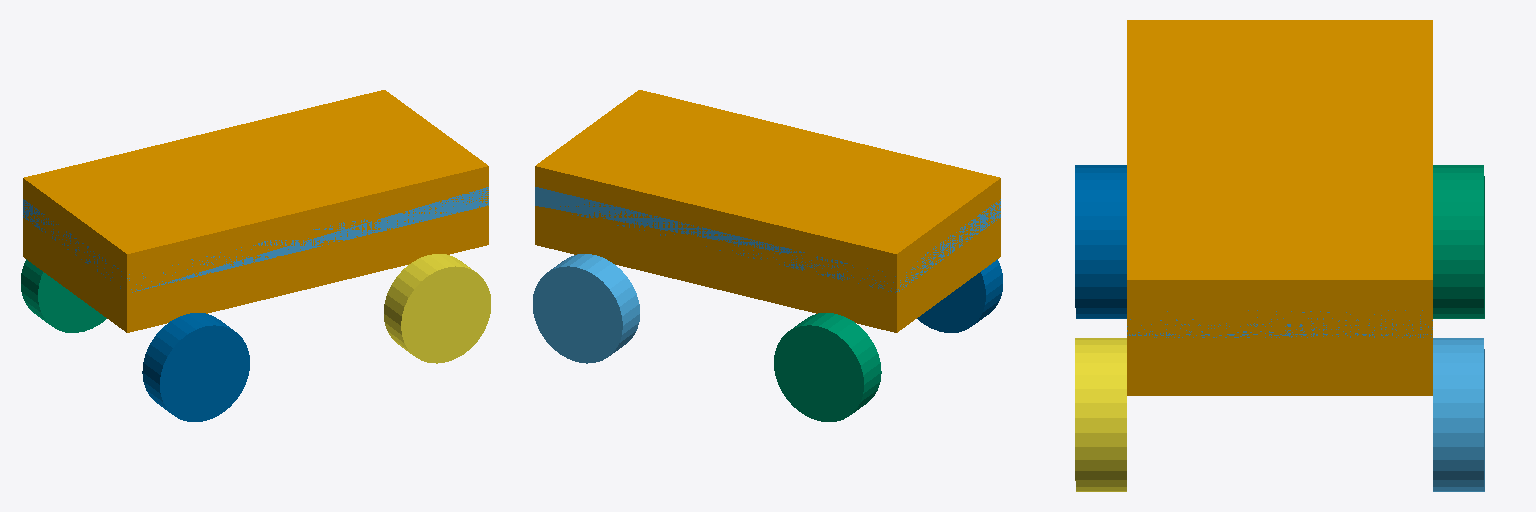
The robot description file, URDF, robot "myfirst":
<?xml version="1.0"?>
<robot name = "myfirst">
	<link name ="base_link">
		<visual>
			<geometry>
				<box size="0.6 .3 .125"/>
			</geometry>
			<origin rpy="0 0 0" xyz="0.0 0.0 0.1025"/>
			
		</visual>
	</link>
	<link name="left_front_wheel">
		<visual>
			<geometry>
				<cylinder length="0.05" radius="0.075"/>
			</geometry>
			
		</visual>
	</link>
	<link name="left_back_wheel">
		<visual>
			<geometry>
				<cylinder length="0.05" radius="0.075"/>
			</geometry>
			
		</visual>
	</link>
	<link name="right_front_wheel">
		<visual>
			<geometry>
				<cylinder length="0.05" radius="0.075"/>
			</geometry>
			
		</visual>
	</link>
	<link name="right_back_wheel">
		<visual>
			<geometry>
				<cylinder length="0.05" radius="0.075"/>
			</geometry>
			
		</visual>
	</link>

	<link name="left_front_post">
		<visual>
			<geometry>
				<cylinder length="0.04" radius="0.02"/>
			</geometry>
			<origin rpy="0 0 0" xyz="0.2 0.1075 0.0825"/>
		</visual>
	</link>
	<link name="left_back_post">
		<visual>
			<geometry>
				<cylinder length="0.04" radius="0.02"/>
			</geometry>
			<origin rpy="0 0 0" xyz="-0.2 0.1075 0.0825"/>
		</visual>
	</link>
	<link name="right_front_post">
		<visual>
			<geometry>
				<cylinder length="0.04" radius="0.02"/>
			</geometry>
			<origin rpy="0 0 0" xyz="0.2 -0.1075 0.0825"/>
		</visual>
	</link>
	<link name="right_back_post">
		<visual>
			<geometry>
				<cylinder length="0.04" radius="0.02"/>
			</geometry>
			<origin rpy="0 0 0" xyz="-0.2 -0.1075 0.0825"/>
		</visual>
	</link>

	<link name ="top_plate">
		<visual>
			<geometry>
				<box size="0.6 .3 .03"/>
			</geometry>
			<origin rpy="0 0 0" xyz="0 0 0.1175"/>
		</visual>
	</link>



	<joint name="base_to_left_front_wheel" type="continuous">
		<parent link="base_link"/>
		<child link="left_front_wheel"/>
		<axis xyz="0 0 1"/>
		<origin rpy="0 1.57 1.57" xyz="0.2 0.175 -0.0275"/>
	</joint>
	<joint name="base_to_left_back_wheel" type="continuous">
		<parent link="base_link"/>
		<child link="left_back_wheel"/>
		<axis xyz="0 0 1"/>
		<origin rpy="0 1.57 1.57" xyz="-0.2 0.175 -0.0275"/>
	</joint>
	<joint name="base_to_right_front_wheel" type="continuous">
		<parent link="base_link"/>
		<child link="right_front_wheel"/>
		<axis xyz="0 0 1"/>
		<origin rpy="0 1.57 1.57" xyz="0.2 -0.175 -0.0275"/>
	</joint>
	<joint name="base_to_right_back_wheel" type="continuous">
		<parent link="base_link"/>
		<child link="right_back_wheel"/>
		<axis xyz="0 0 1"/>
		<origin rpy="0 1.57 1.57" xyz="-0.2 -0.175 -0.0275"/>
	</joint>


	<joint name="base_to_left_front_post" type="fixed">
		<parent link="base_link"/>
		<child link="left_front_post"/>
	</joint>
	<joint name="base_to_left_back_post" type="fixed">
		<parent link="base_link"/>
		<child link="left_back_post"/>
	</joint>
	<joint name="base_to_right_front_post" type="fixed">
		<parent link="base_link"/>
		<child link="right_front_post"/>
	</joint>
	<joint name="base_to_right_back_post" type="fixed">
		<parent link="base_link"/>
		<child link="right_back_post"/>
	</joint>

	<joint name="base_to_top_plate" type="fixed">
		<parent link="base_link"/>
		<child link="top_plate"/>
	</joint>

    <link name="laser">
      <inertial>
        <mass value="0.001" />
        <origin xyz="0 0 0" />
        <inertia ixx="0.000001" ixy="0.0" ixz="0.0"
          iyy="0.000001" iyz="0.0" izz="0.000001" />
      </inertial>
    </link>

    <joint name="laser_mount_joint" type="fixed">
      <parent link="base_link" />
      <child link="laser" />
      <origin rpy="0 0 0" xyz="0 0 0.2"/>
    </joint>

</robot>

--- Render facts (derived) ---
The picture shows the robot from 3 angles, left to right: view 1: azimuth 30°, elevation 25°; view 2: azimuth 150°, elevation 25°; view 3: azimuth 270°, elevation 25°; orthographic projection.
Robot: myfirst — 11 links, 10 joints (4 continuous, 6 fixed); root link base_link; default pose: all joints at 0.
Visible links, largest first — view 1: base_link, right_front_wheel, right_back_wheel, top_plate, left_back_wheel; view 2: base_link, left_front_wheel, left_back_wheel, top_plate, right_back_wheel; view 3: base_link, left_front_wheel, left_back_wheel, right_front_wheel, right_back_wheel, top_plate.
Link boxes in pixels (x1,y1,x2,y2): base_link: (23,90,488,332); right_front_wheel: (384,254,490,363); right_back_wheel: (142,313,249,421); top_plate: (23,187,488,292); left_back_wheel: (21,259,106,332); base_link: (535,90,1000,332); left_front_wheel: (533,254,639,363); left_back_wheel: (774,313,881,421); top_plate: (535,187,1000,292); right_back_wheel: (917,259,1002,332); base_link: (1127,20,1432,395); left_front_wheel: (1433,338,1484,491); left_back_wheel: (1433,165,1484,318); right_front_wheel: (1075,338,1126,491); right_back_wheel: (1075,165,1126,318); top_plate: (1127,310,1432,337).
Size in the robot's own frame: 0.6 by 0.4002 by 0.2675 metres.
Geometry: primitives only (box / cylinder / sphere), no mesh files.
